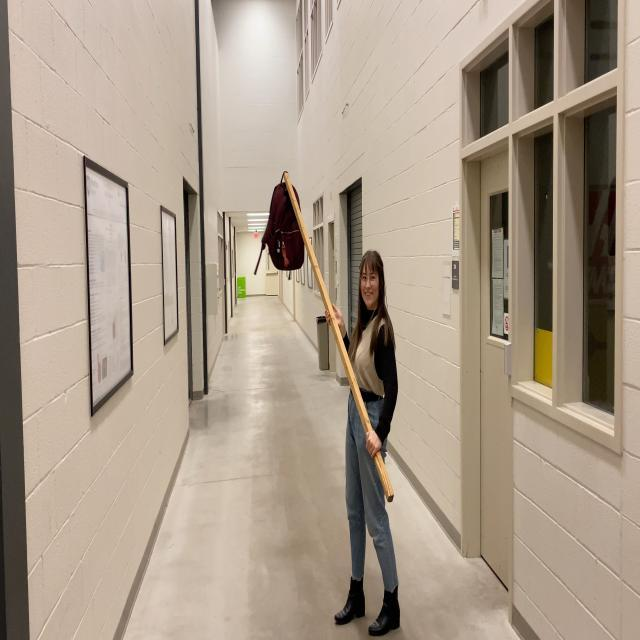Backpacks: (266, 184, 306, 272)
